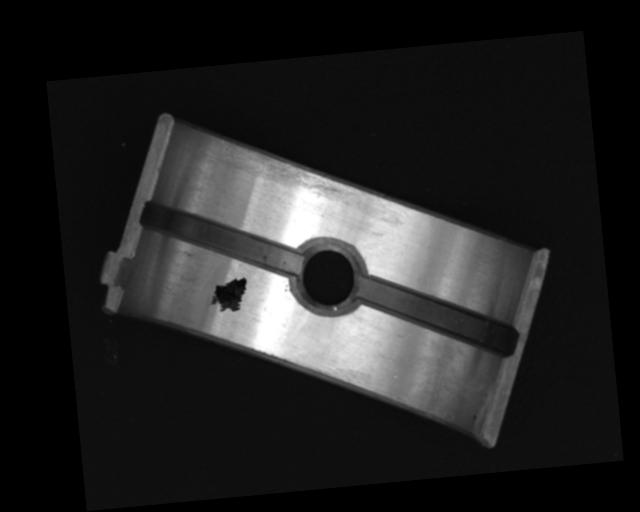blot: (206, 275, 249, 314)
gap: (355, 263, 517, 368), (139, 187, 302, 286)
hole: (288, 233, 369, 318)
scratch: (211, 125, 365, 210)
